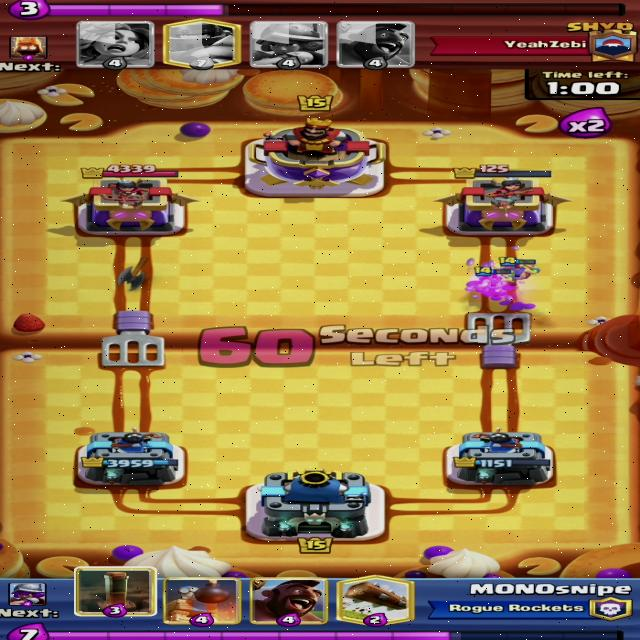Player-Goblin: (495, 256, 541, 285), (470, 266, 515, 295)
